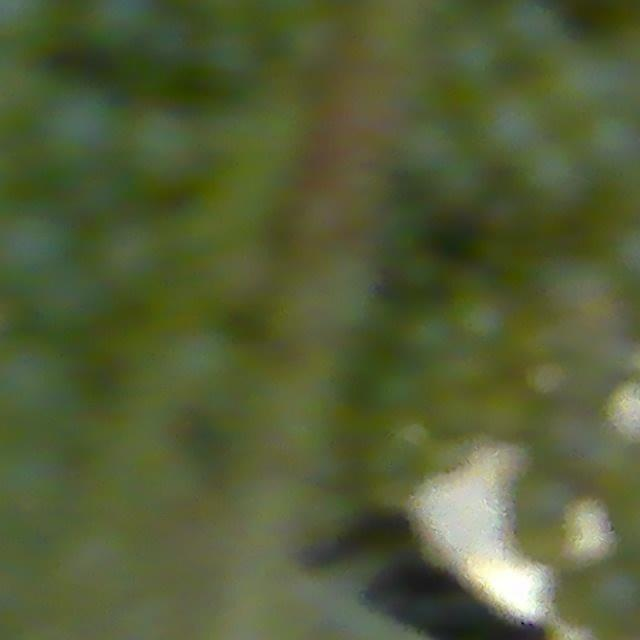SeaGrape: (36, 81, 128, 174), (468, 82, 557, 169), (122, 105, 208, 191), (516, 136, 595, 219), (0, 202, 76, 287), (488, 0, 566, 66), (578, 107, 640, 190), (576, 556, 640, 634), (474, 380, 543, 446), (82, 0, 160, 54)
